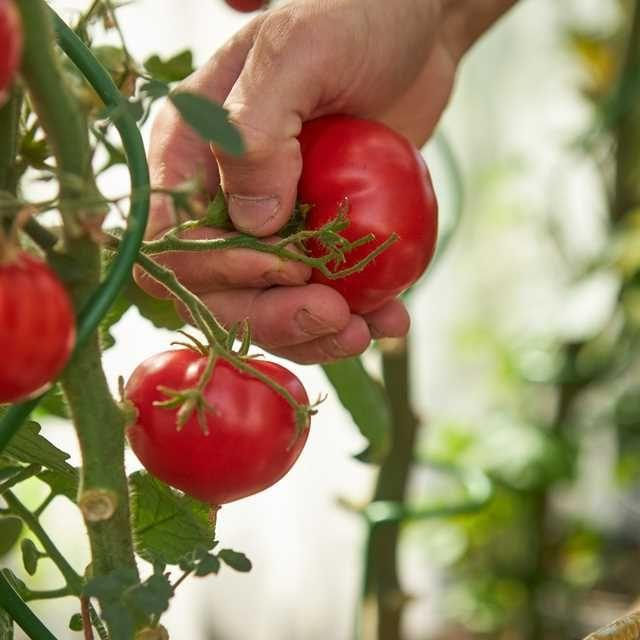level 6: (242, 113, 438, 316), (125, 349, 312, 507), (0, 243, 77, 404)
